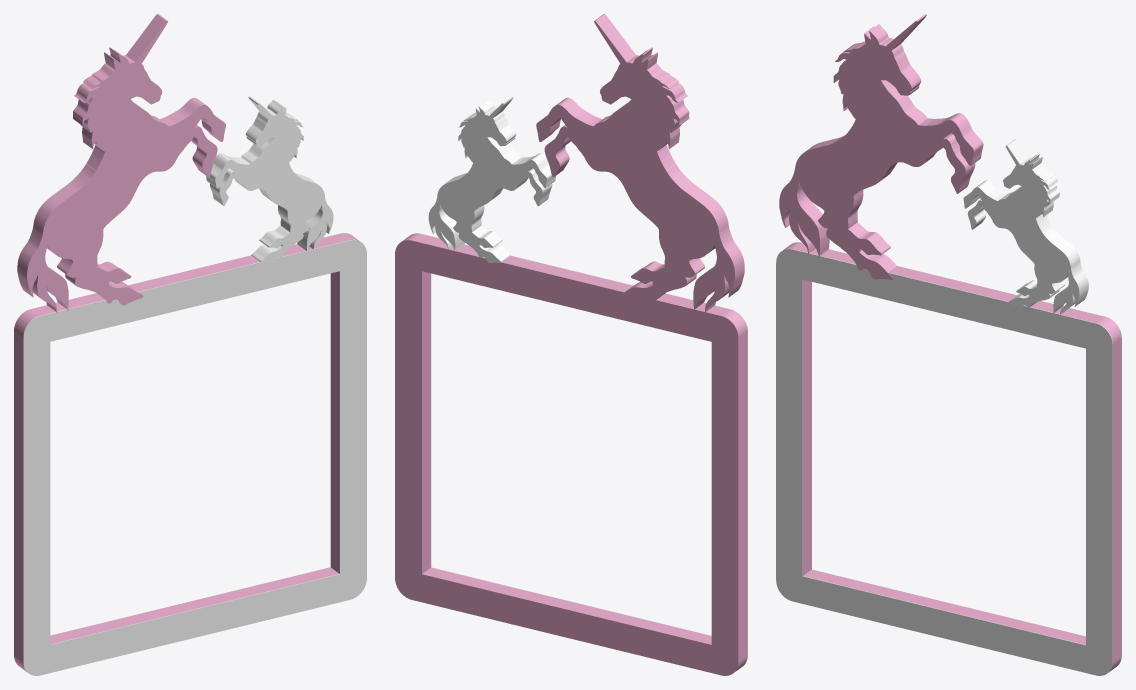
Rendered from Unicorn2.obj.
3 renders of one model, left to right at view 1: azimuth 30°, elevation 25°; view 2: azimuth 150°, elevation 25°; view 3: azimuth 330°, elevation 25°, orthographic. The views are drawn at different scales.
Parts seen in each view (by area): view 1: group_0_16448250, group_0_15708628, group_0_16777215; view 2: group_0_15708628, group_0_16777215, group_0_16448250; view 3: group_0_16448250, group_0_15708628, group_0_16777215.
Boxes of the visible parts, box(x1,y1,x2,y2) form: group_0_16448250: box(23, 239, 366, 675); group_0_15708628: box(14, 14, 358, 672); group_0_16777215: box(206, 96, 333, 262); group_0_15708628: box(395, 14, 747, 675); group_0_16777215: box(428, 96, 555, 262); group_0_16448250: box(411, 233, 747, 663); group_0_16448250: box(776, 248, 1112, 675); group_0_15708628: box(779, 14, 1121, 671); group_0_16777215: box(963, 139, 1088, 314).
Bounding box in the file's own units: 102 × 177 × 5.
